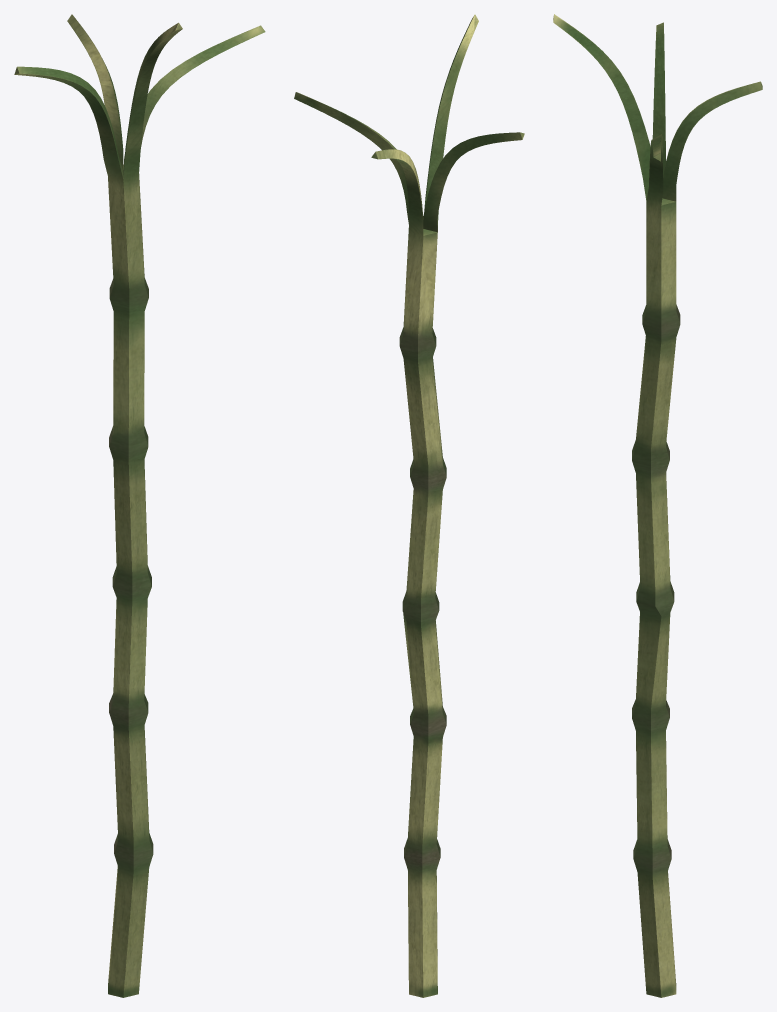
File: sugarcane.fbx
3 renders of one model, left to right at view 1: azimuth 30°, elevation 25°; view 2: azimuth 150°, elevation 25°; view 3: azimuth 270°, elevation 25°, orthographic. The views are drawn at different scales.
Parts seen in each view (by area): view 1: CandyCane:pCylinder1; view 2: CandyCane:pCylinder1; view 3: CandyCane:pCylinder1.
Boxes of the visible parts, bbox=[...] form: CandyCane:pCylinder1: bbox=[14, 14, 265, 997]; CandyCane:pCylinder1: bbox=[294, 14, 524, 997]; CandyCane:pCylinder1: bbox=[553, 14, 762, 997].
Bounding box in the file's own units: 48.35 × 189 × 36.68.
Materials: 1 (1 with a texture image).
